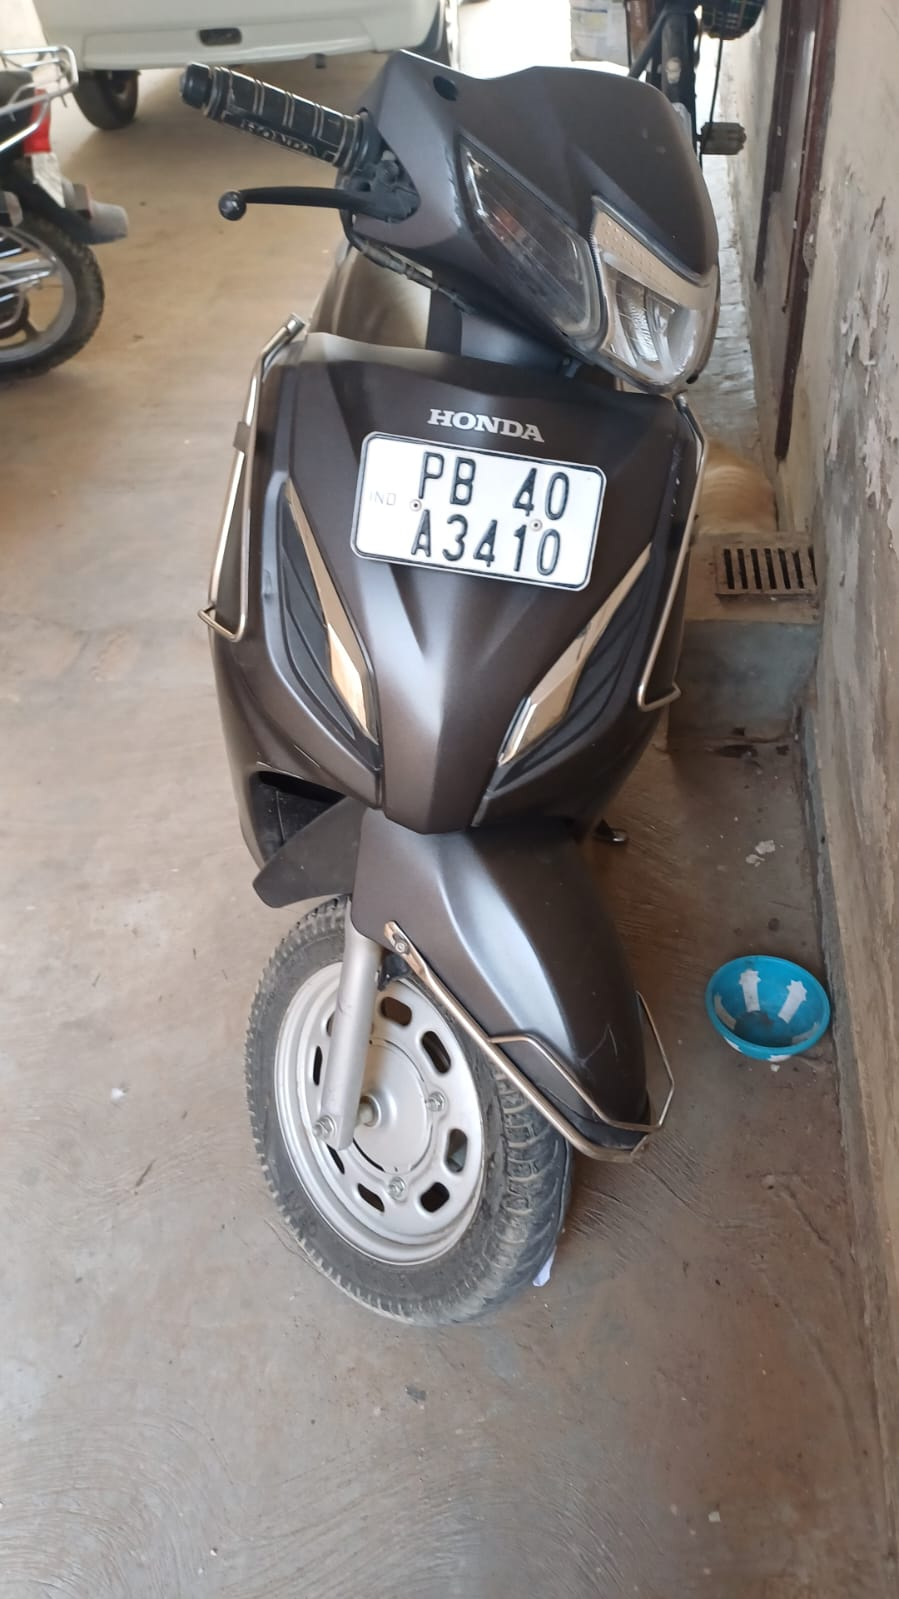license plate: (353, 433, 604, 589)
